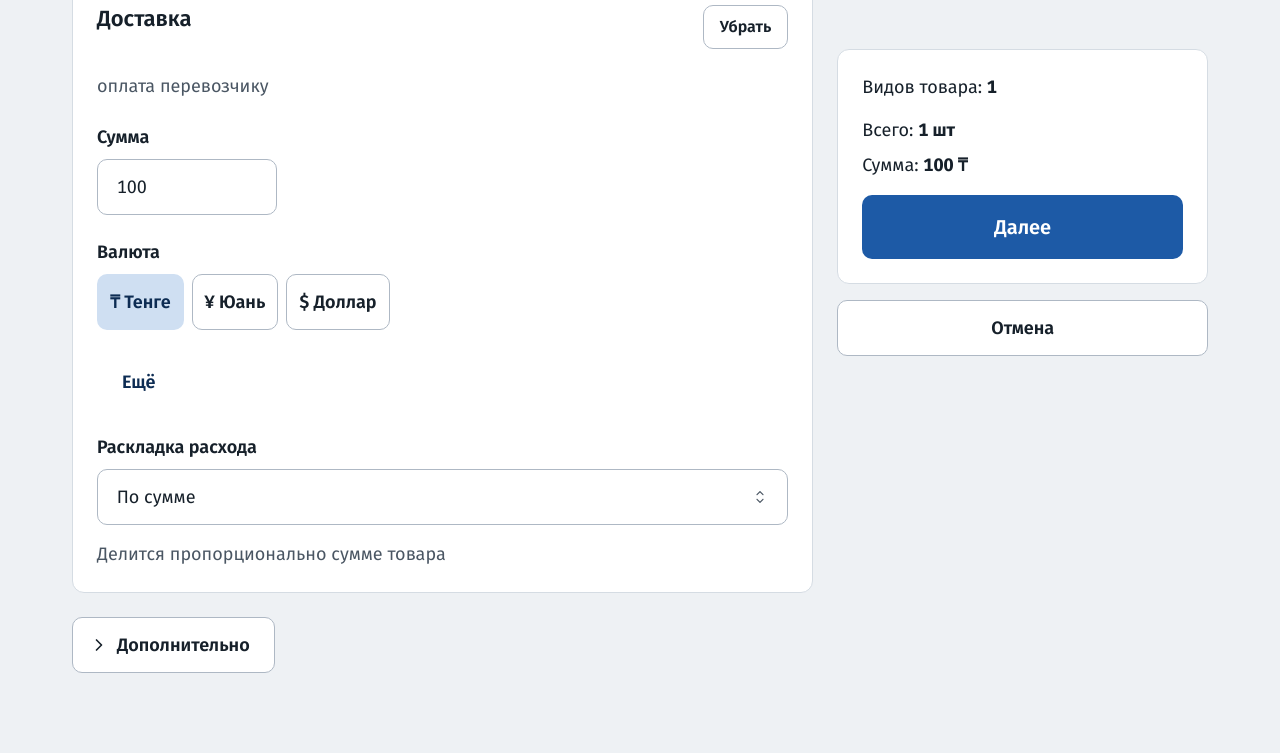
failed manual seeding keeps fields empty and retry seeds from the original method
This screenshot has width=1280, height=753.
(page scrolled)
Click the dropdown labelled "Раскладка расхода" at (443, 497), box left=97, top=469, right=788, bottom=525
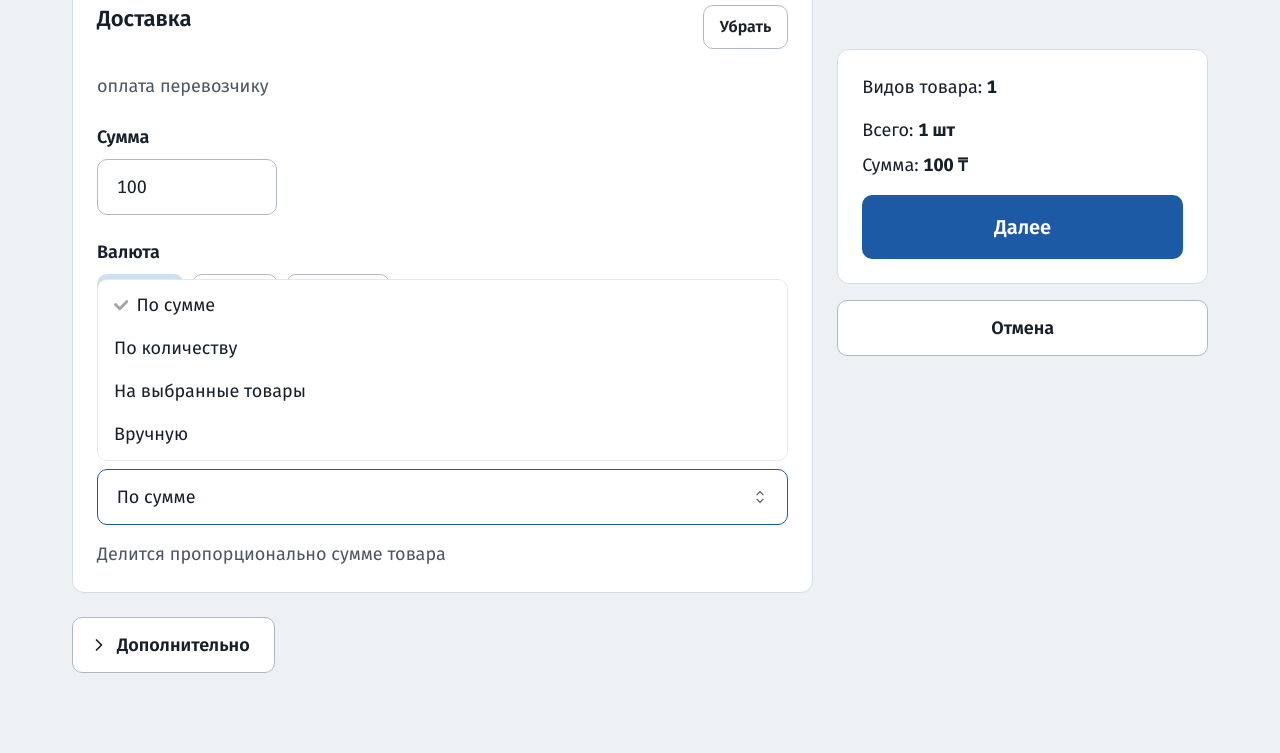
Click the option "Вручную" at (151, 434), box left=114, top=423, right=188, bottom=445
(page scrolled)
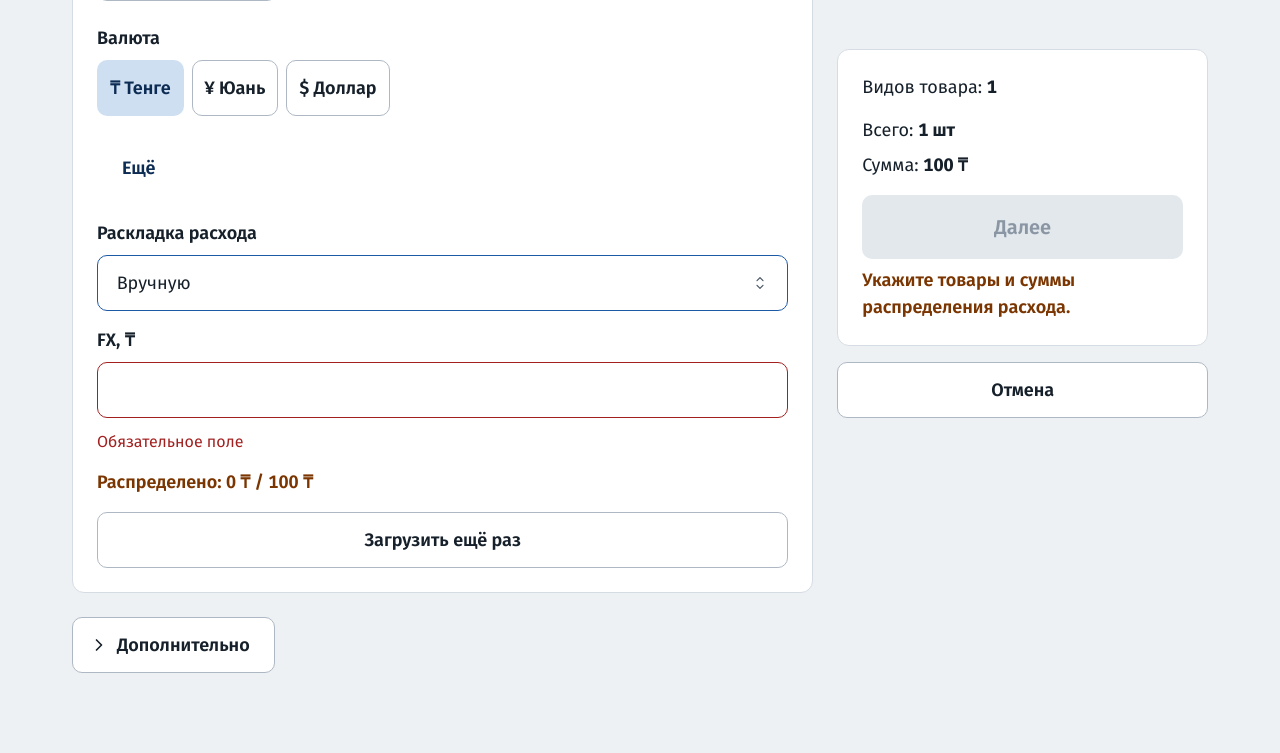
Result: the button "Загрузить ещё раз" is shown
Result: the field labelled "FX, ₸" is empty at left=97, top=362, right=788, bottom=418
Click the button "Загрузить ещё раз" at (443, 540), box left=97, top=512, right=788, bottom=568
(page scrolled)
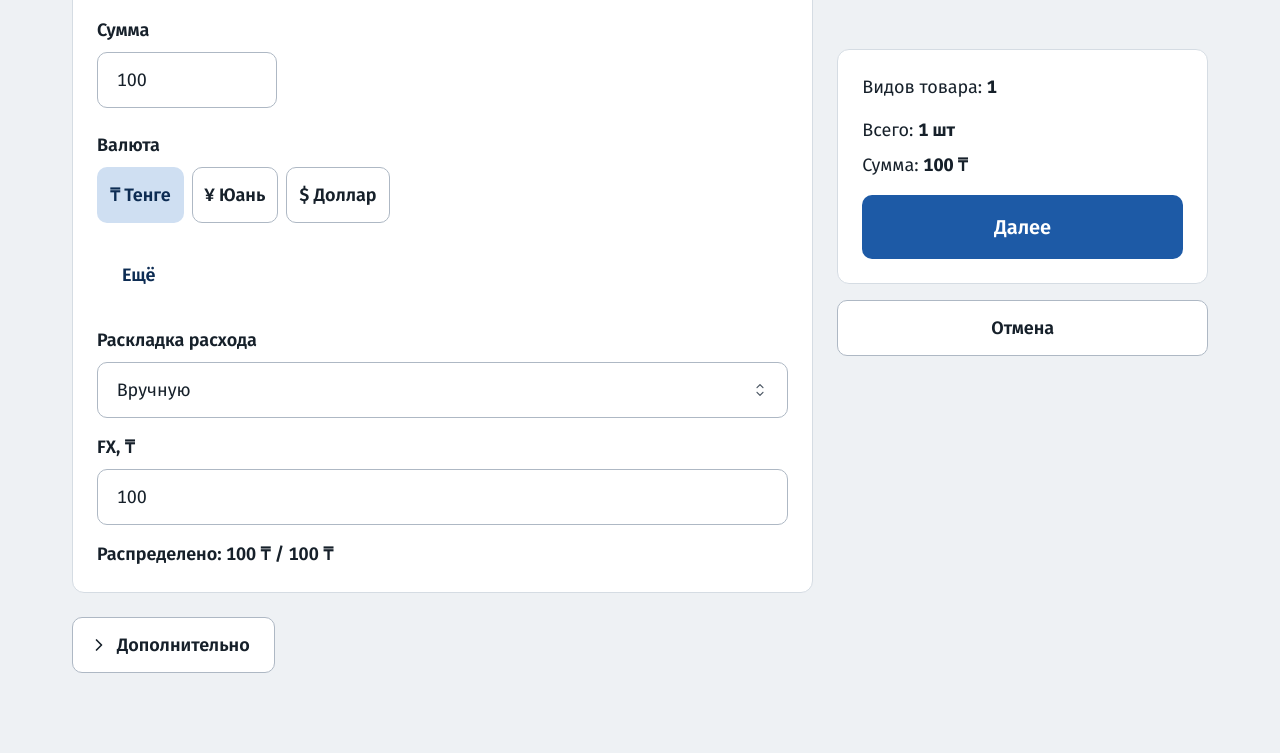
Result: the field labelled "FX, ₸" holds "100" at left=97, top=469, right=788, bottom=525
